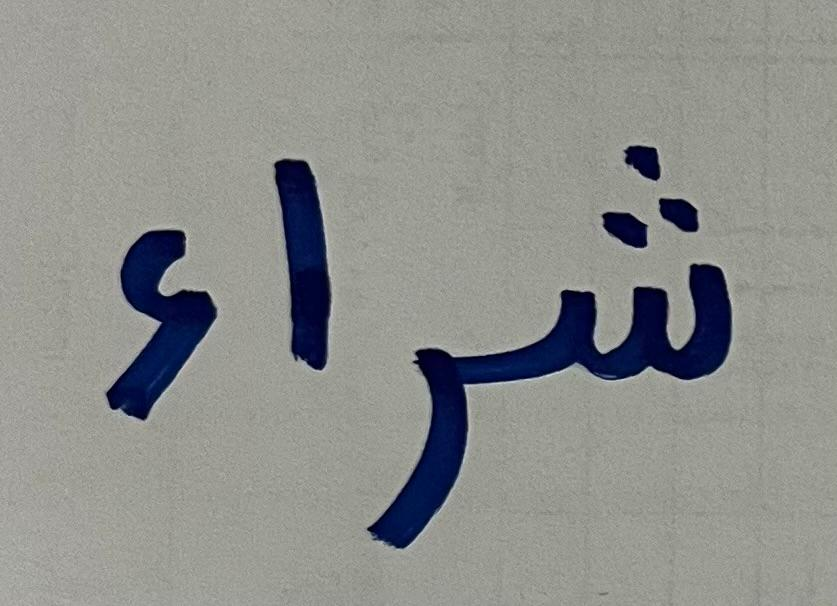alef: (242, 89, 349, 408)
heh: (67, 174, 236, 457)
sad: (359, 271, 516, 588)
tah: (521, 78, 773, 443)
